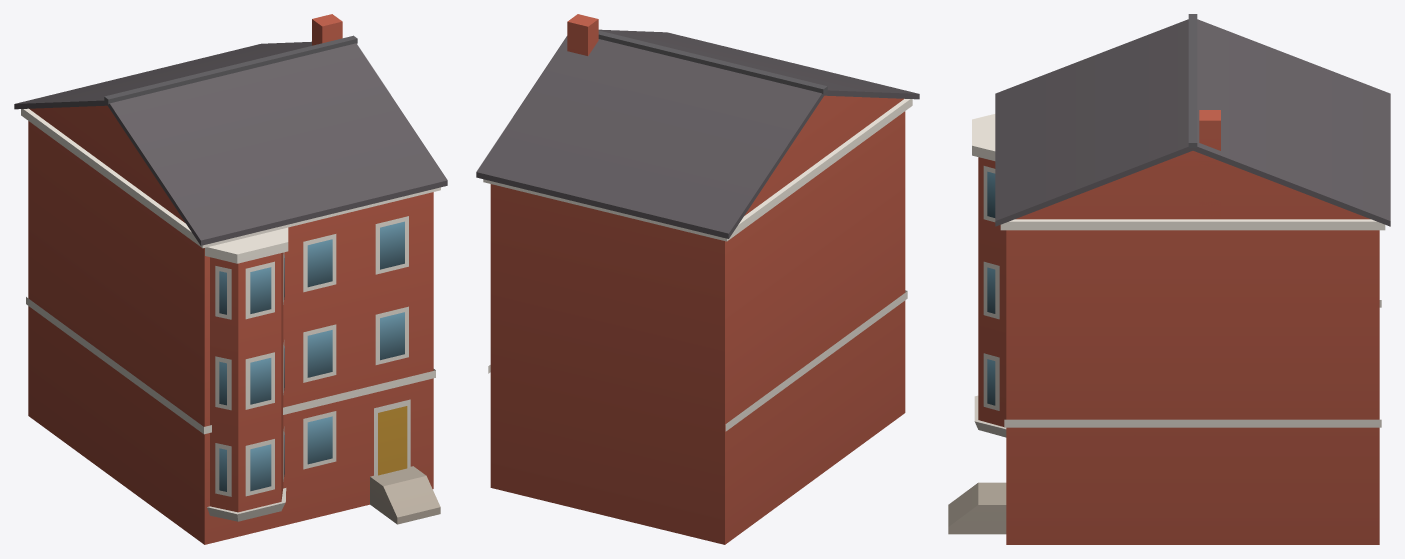
Rendered from lane_e1_far.glb.
3 renders of one model, left to right at view 1: azimuth 30°, elevation 25°; view 2: azimuth 150°, elevation 25°; view 3: azimuth 270°, elevation 25°, orthographic. The views are drawn at different scales.
Visible parts, largest first — view 1: lane_e1_far; view 2: lane_e1_far; view 3: lane_e1_far.
Boxes of the visible parts, bbox=[...] form: lane_e1_far: bbox=[14, 14, 447, 544]; lane_e1_far: bbox=[476, 14, 919, 544]; lane_e1_far: bbox=[948, 14, 1390, 544].
Size of the model in its own units: 9.8 by 15.05 by 14.21.
1 material, 1 textured.
